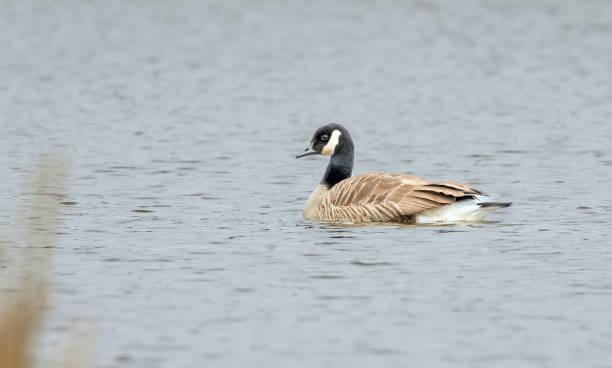Canadian-Goose: (294, 122, 509, 229)
